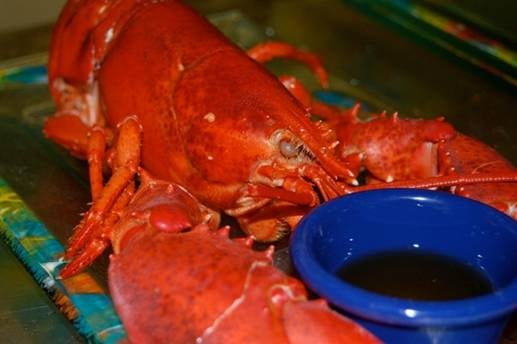pizza: (288, 187, 517, 341)
sushi: (288, 187, 517, 340)
